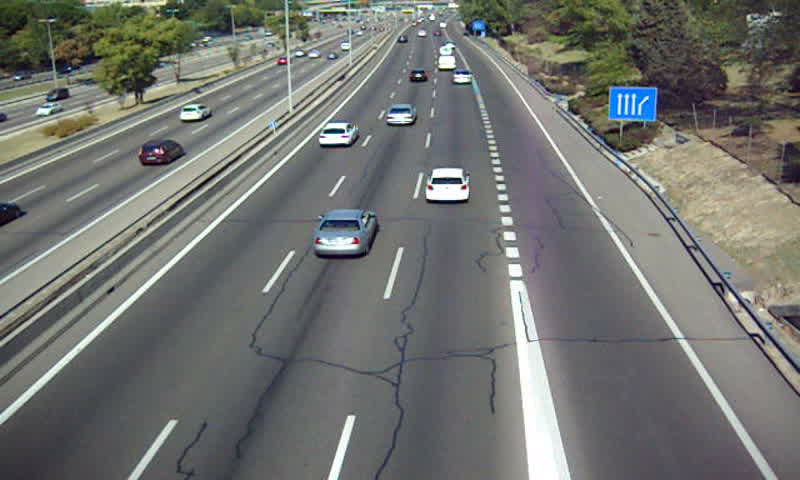car: (312, 209, 378, 257), (426, 167, 470, 203), (318, 122, 356, 146), (386, 105, 417, 128), (452, 69, 474, 86), (407, 69, 428, 84)
van: (437, 56, 457, 70), (440, 45, 454, 57)
